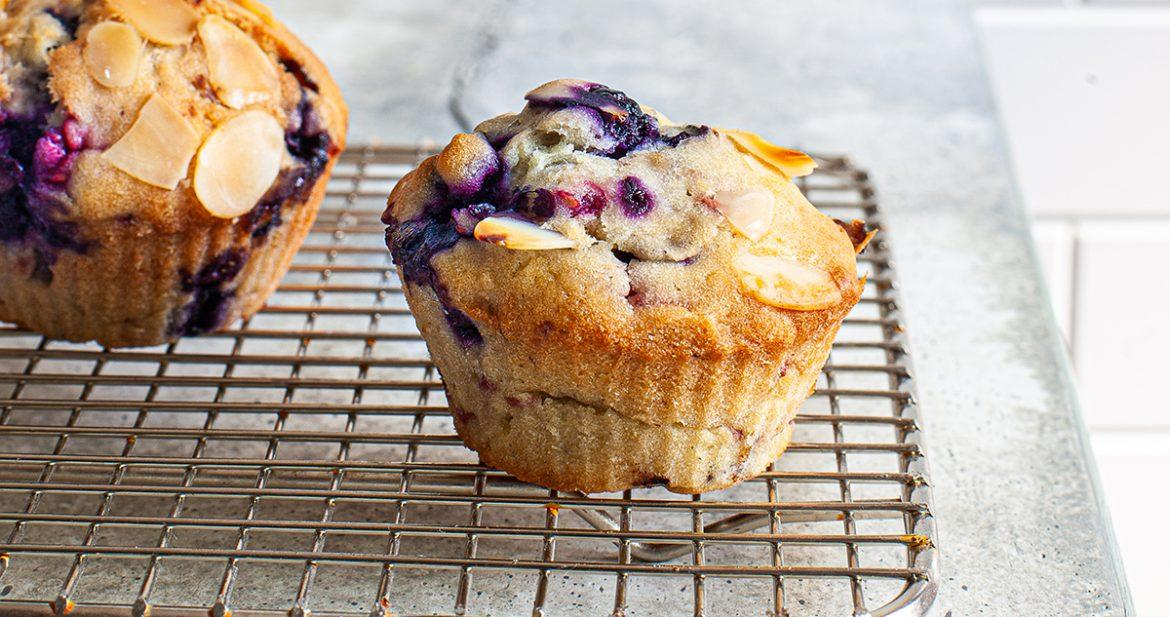muffin: (386, 56, 868, 508), (0, 0, 346, 407)
